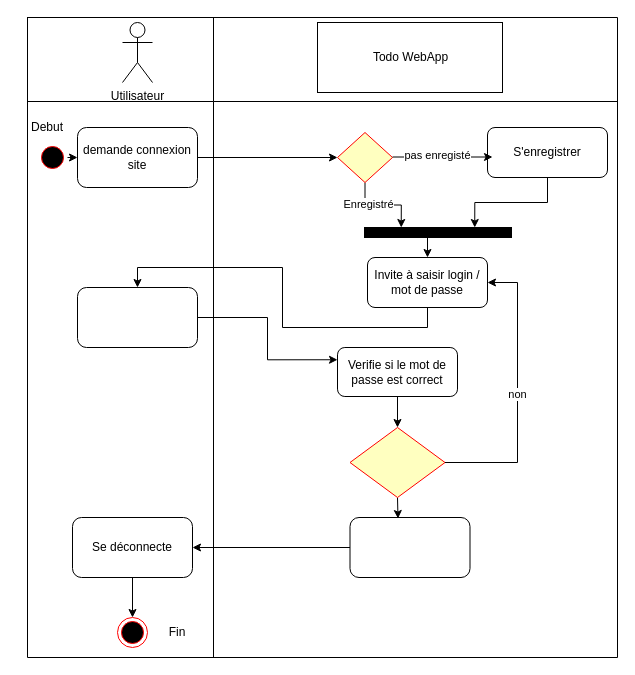
This 635x675 diagram has some shape labels left out. The shapes that lost their labels are listed below. From the top down, each one's centre as x and y in pixels, then its label:
At point 137,317: "Saisie son login/mot de passe".
At point 397,462: "Mot de passe correct".
At point 409,547: "Affichage liste Todo".
